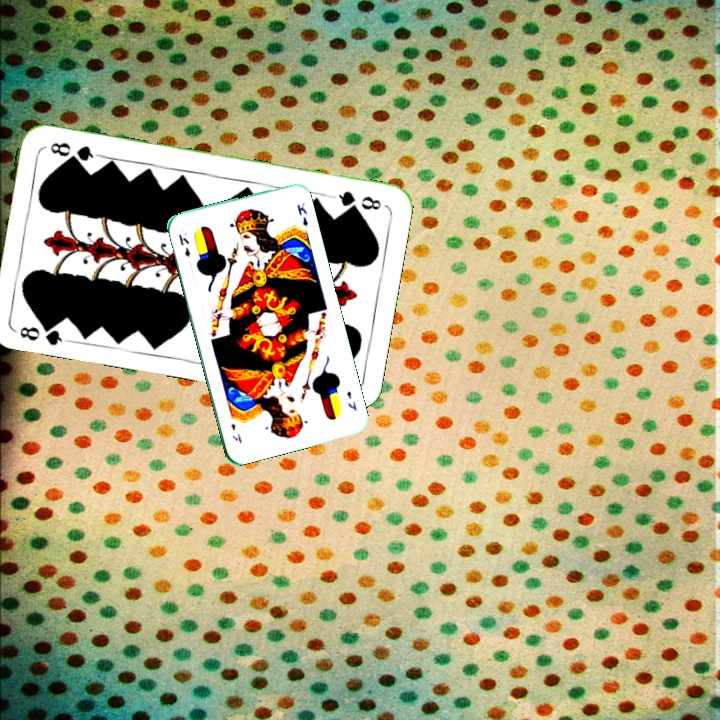EK: (174, 230, 193, 259), (343, 387, 359, 413)
G8: (15, 318, 69, 348), (328, 186, 384, 213)
